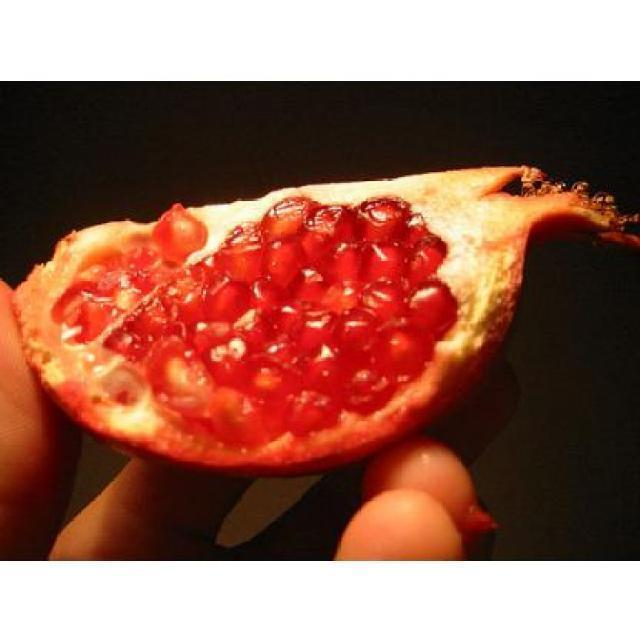Pomegranate: (10, 166, 636, 472)
